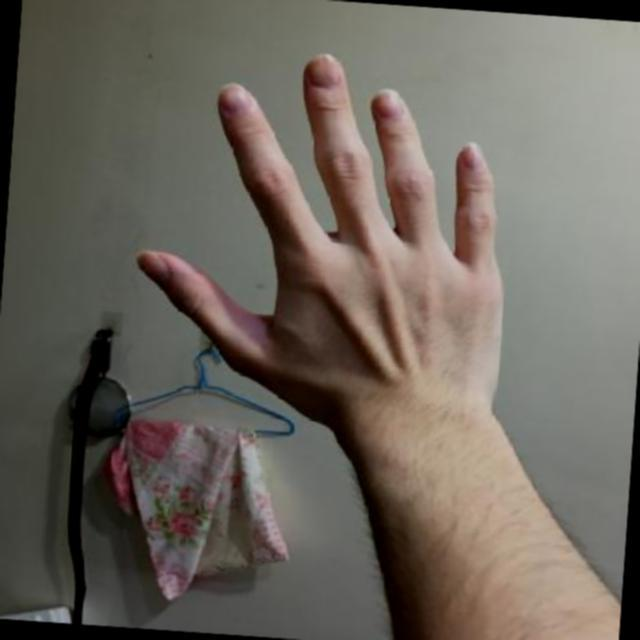hand: (112, 33, 554, 472)
